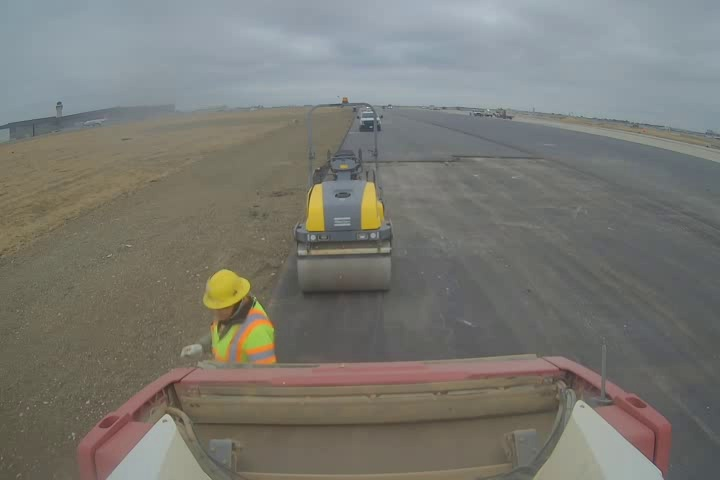person: (178, 260, 279, 367)
vehicle: (72, 351, 671, 480), (293, 102, 394, 293), (351, 108, 385, 130)
vest: (201, 299, 275, 364)
yellow_helmet: (198, 263, 258, 325)
